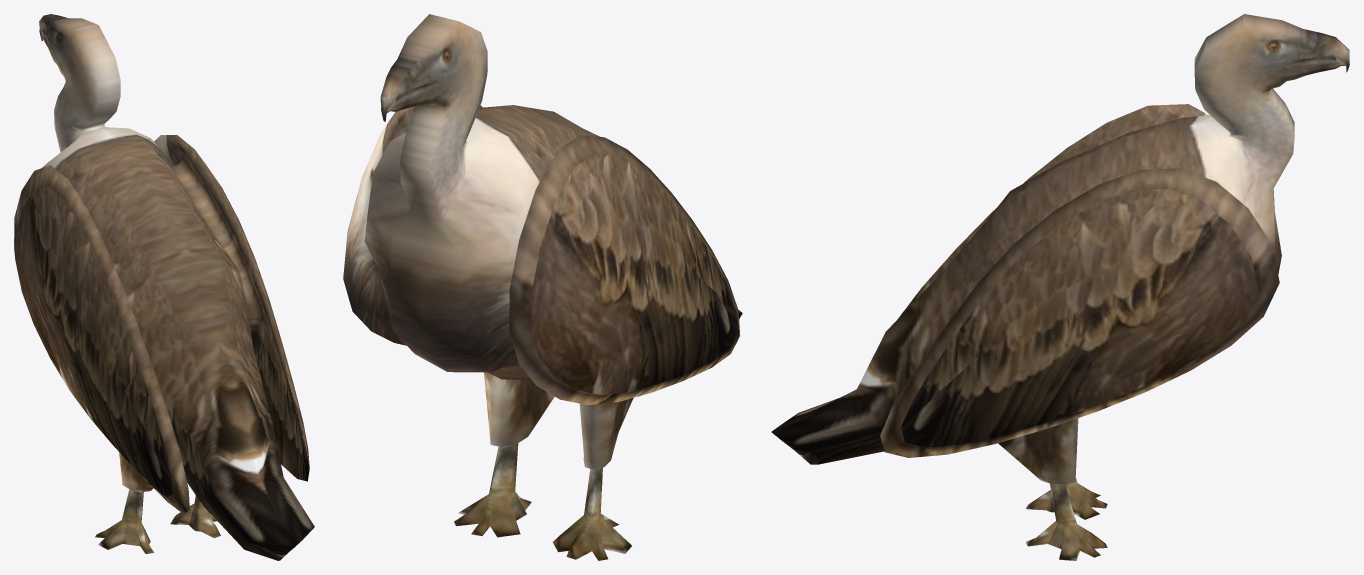
Rendered from abutre_melhor1.fbx.
The picture shows the model from 3 angles, left to right: view 1: azimuth 30°, elevation 25°; view 2: azimuth 150°, elevation 25°; view 3: azimuth 270°, elevation 25°; orthographic projection. The views are drawn at different scales.
Parts seen in each view (by area): view 1: Cube; view 2: Cube; view 3: Cube.
Boxes of the visible parts, <box> form: Cube: <box>14,14,314,560</box>; Cube: <box>343,14,742,560</box>; Cube: <box>771,14,1349,560</box>.
Size of the model in its own units: 158 by 403 by 418.
Materials: 1 (1 with a texture image).
